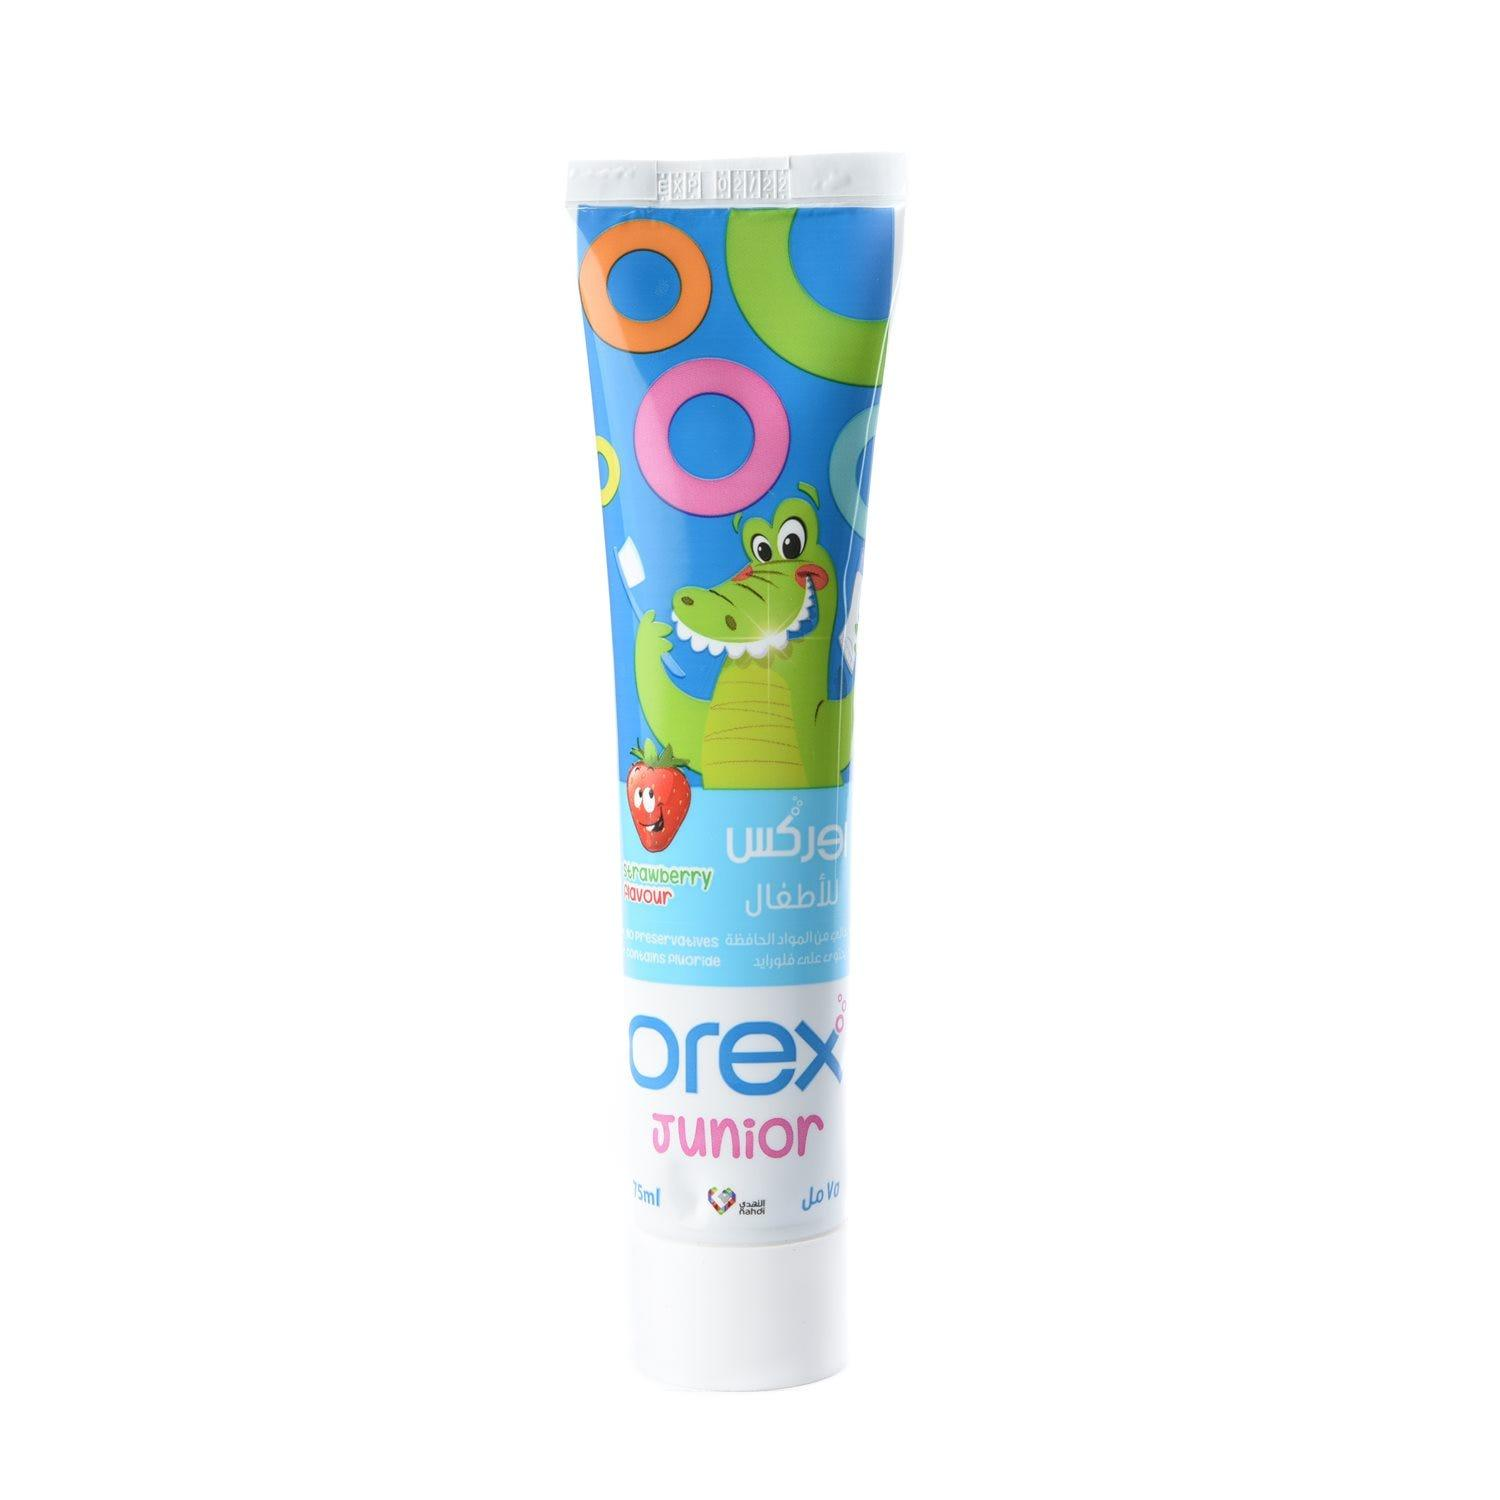toothpaste: (525, 144, 941, 1415)
